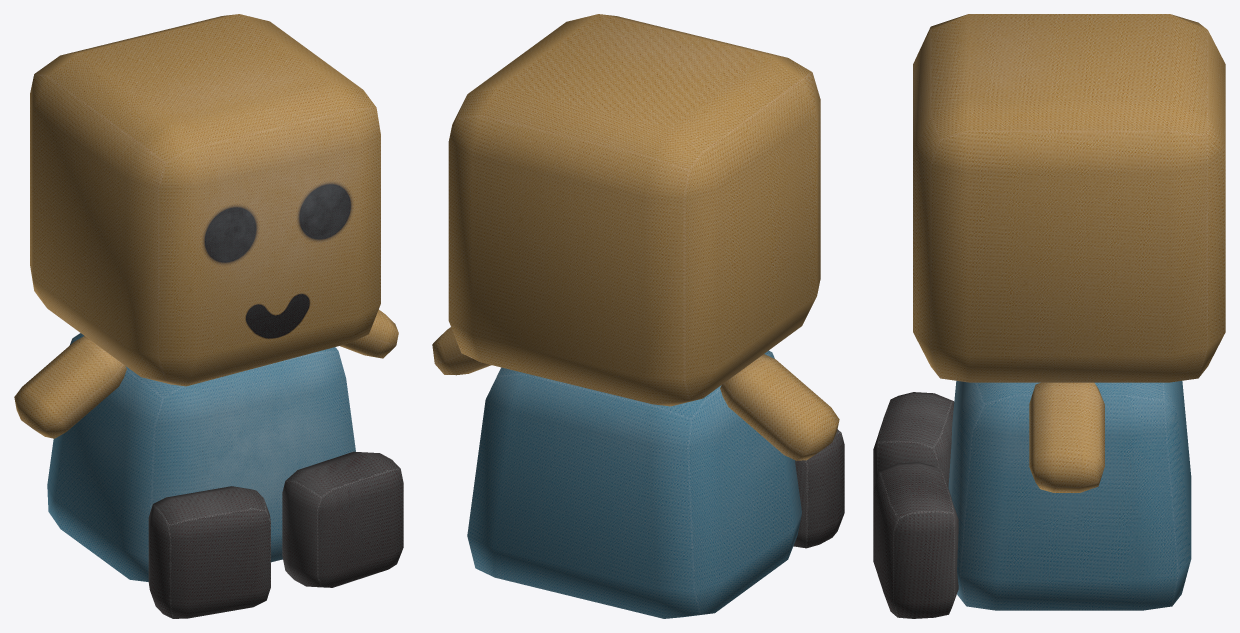
The model's file is Plushie_Person.FBX.
3 views of the same model, side by side, from view 1: azimuth 30°, elevation 25°; view 2: azimuth 150°, elevation 25°; view 3: azimuth 270°, elevation 25° (orthographic). The views are drawn at different scales.
Parts seen in each view (by area): view 1: Plushie_Person; view 2: Plushie_Person; view 3: Plushie_Person.
Part boxes in pixels (<box>): Plushie_Person: <box>14,14,403,618</box>; Plushie_Person: <box>432,14,844,618</box>; Plushie_Person: <box>873,14,1225,618</box>.
Bounding box in the file's own units: 15.61 × 19.2 × 12.06.
